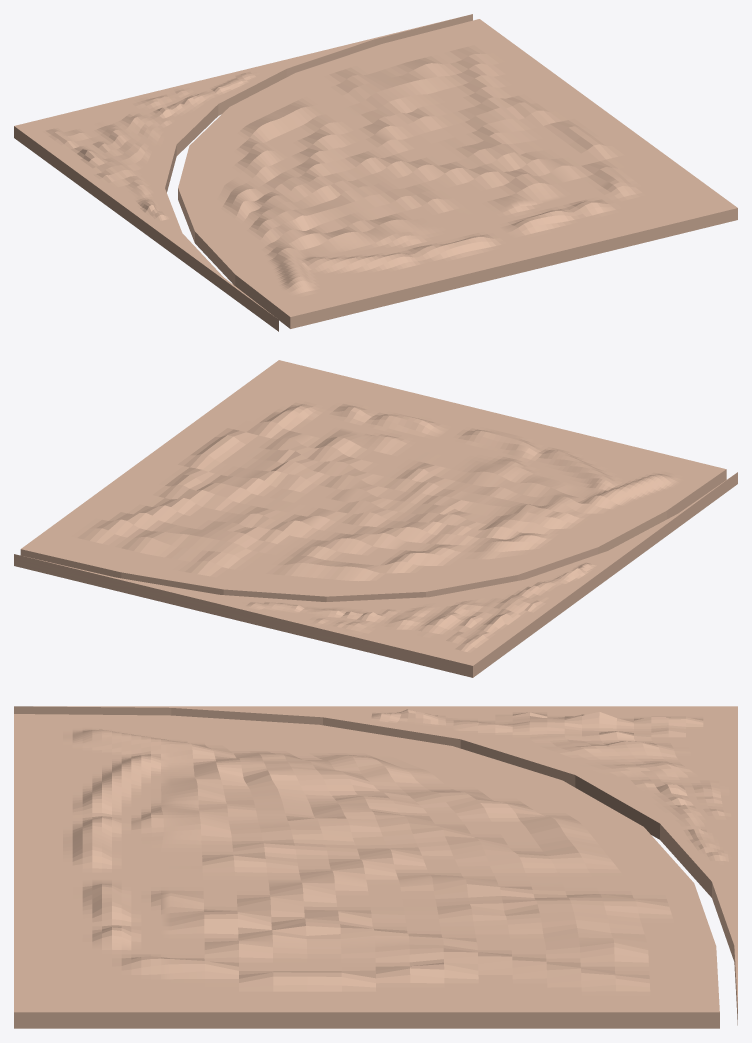
The model's file is structure_floorcurved.fbx.
3 views of the same model, one above another, from view 1: azimuth 30°, elevation 25°; view 2: azimuth 150°, elevation 25°; view 3: azimuth 270°, elevation 25° (orthographic). The views are drawn at different scales.
Visible parts, largest first — view 1: floorcurved_floor1_LOD0, floorcurved_floor2_LOD0; view 2: floorcurved_floor1_LOD0, floorcurved_floor2_LOD0; view 3: floorcurved_floor1_LOD0, floorcurved_floor2_LOD0.
Part boxes in pixels (left/top/right/bottom): floorcurved_floor1_LOD0: left=178, top=19, right=737, bottom=328; floorcurved_floor2_LOD0: left=14, top=14, right=472, bottom=331; floorcurved_floor1_LOD0: left=20, top=360, right=726, bottom=601; floorcurved_floor2_LOD0: left=14, top=472, right=737, bottom=677; floorcurved_floor1_LOD0: left=14, top=714, right=719, bottom=1028; floorcurved_floor2_LOD0: left=14, top=706, right=737, bottom=1025.
Size of what is drawn, in the model's own units: 400 by 22.37 by 400.
